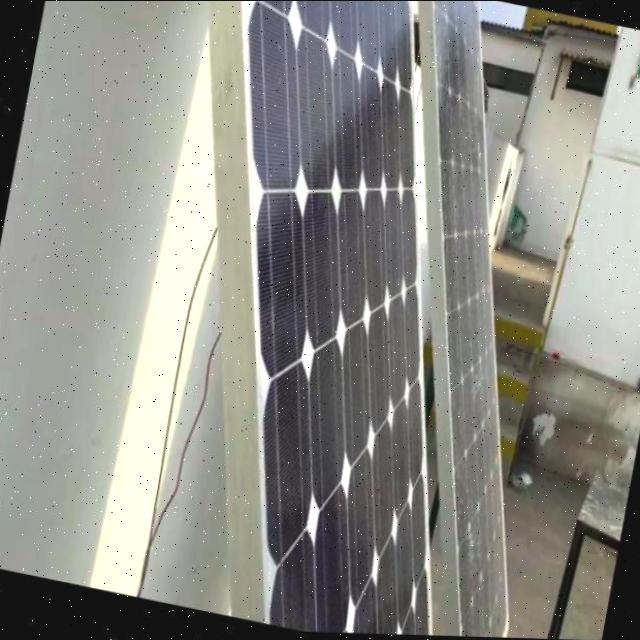Normal Solar Panel: (123, 0, 556, 639)
